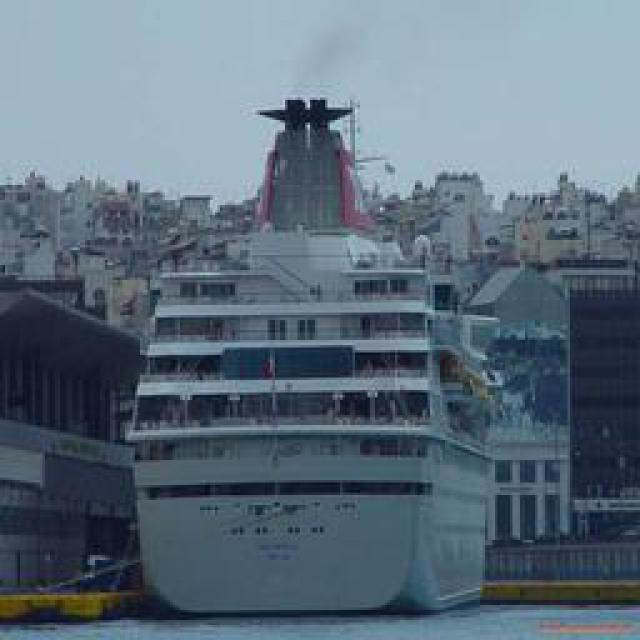Ship: (128, 64, 506, 619)
